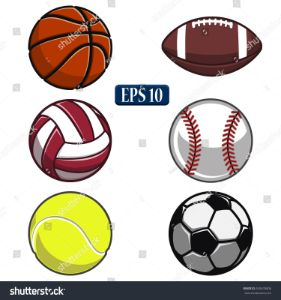baloncesto: (28, 6, 112, 90)
futbol americano: (161, 16, 262, 76)
voleibol: (29, 100, 112, 182)
